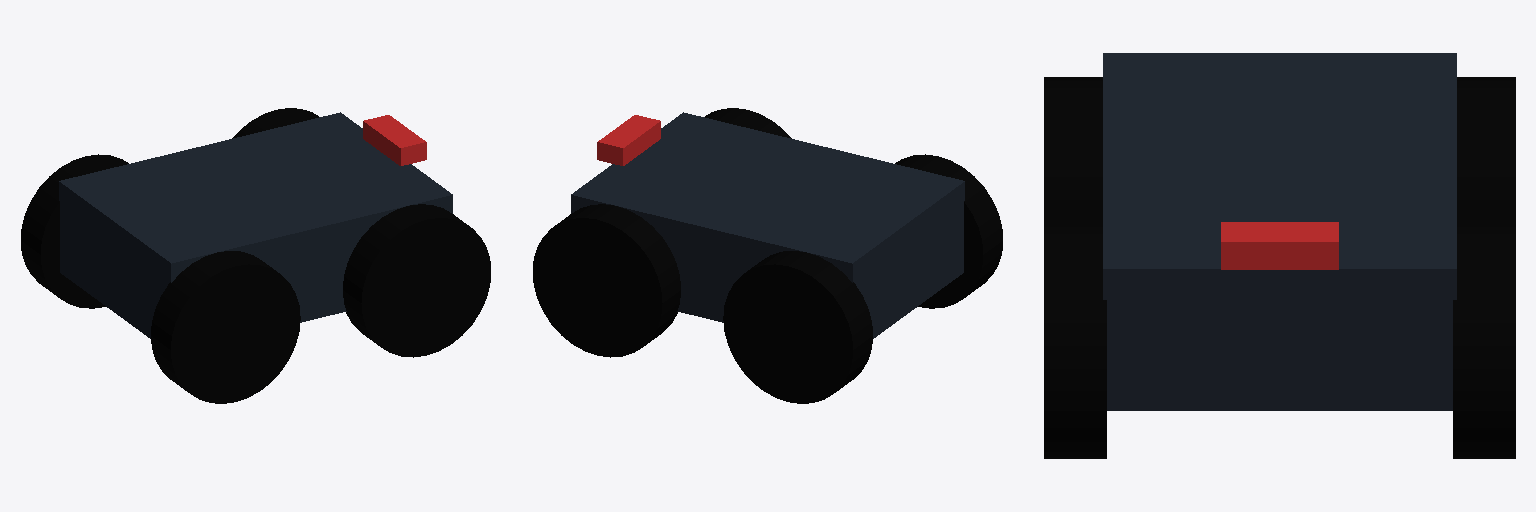
robot.urdf — outdoor_ugv:
<?xml version="1.0"?>
<robot name="outdoor_ugv">

  <link name="base_footprint"/>

  <joint name="base_footprint_joint" type="fixed">
    <parent link="base_footprint"/>
    <child link="base_link"/>
    <origin xyz="0 0 0.15" rpy="0 0 0"/>
  </joint>

  <!-- Base Link (Chassis) -->
  <link name="base_link">
    <inertial>
      <mass value="20.0"/>
      <origin xyz="0 0 0.05" rpy="0 0 0"/>
      <inertia ixx="0.25" ixy="0.0" ixz="0.0" iyy="0.45" iyz="0.0" izz="0.60"/>
    </inertial>
    <visual>
      <origin xyz="0 0 0.05" rpy="0 0 0"/>
      <geometry>
        <box size="0.65 0.45 0.20"/>
      </geometry>
      <material name="chassis_color">
        <color rgba="0.15 0.18 0.22 1.0"/>
      </material>
    </visual>
    <collision>
      <origin xyz="0 0 0.05" rpy="0 0 0"/>
      <geometry>
        <box size="0.65 0.45 0.20"/>
      </geometry>
    </collision>
  </link>

  <!-- Left Front Wheel -->
  <link name="left_front_wheel">
    <inertial>
      <mass value="2.5"/>
      <origin xyz="0 0 0" rpy="0 0 0"/>
      <inertia ixx="0.015" ixy="0.0" ixz="0.0" iyy="0.015" iyz="0.0" izz="0.025"/>
    </inertial>
    <visual>
      <origin xyz="0 0 0" rpy="1.570796 0 0"/>
      <geometry>
        <cylinder radius="0.15" length="0.08"/>
      </geometry>
      <material name="tire_color">
        <color rgba="0.05 0.05 0.05 1.0"/>
      </material>
    </visual>
    <collision>
      <origin xyz="0 0 0" rpy="1.570796 0 0"/>
      <geometry>
        <cylinder radius="0.15" length="0.08"/>
      </geometry>
    </collision>
  </link>

  <joint name="left_front_wheel_joint" type="continuous">
    <parent link="base_link"/>
    <child link="left_front_wheel"/>
    <origin xyz="0.22 0.26 0" rpy="0 0 0"/>
    <axis xyz="0 1 0"/>
  </joint>

  <!-- Left Rear Wheel -->
  <link name="left_rear_wheel">
    <inertial>
      <mass value="2.5"/>
      <origin xyz="0 0 0" rpy="0 0 0"/>
      <inertia ixx="0.015" ixy="0.0" ixz="0.0" iyy="0.015" iyz="0.0" izz="0.025"/>
    </inertial>
    <visual>
      <origin xyz="0 0 0" rpy="1.570796 0 0"/>
      <geometry>
        <cylinder radius="0.15" length="0.08"/>
      </geometry>
      <material name="tire_color">
        <color rgba="0.05 0.05 0.05 1.0"/>
      </material>
    </visual>
    <collision>
      <origin xyz="0 0 0" rpy="1.570796 0 0"/>
      <geometry>
        <cylinder radius="0.15" length="0.08"/>
      </geometry>
    </collision>
  </link>

  <joint name="left_rear_wheel_joint" type="continuous">
    <parent link="base_link"/>
    <child link="left_rear_wheel"/>
    <origin xyz="-0.22 0.26 0" rpy="0 0 0"/>
    <axis xyz="0 1 0"/>
  </joint>

  <!-- Right Front Wheel -->
  <link name="right_front_wheel">
    <inertial>
      <mass value="2.5"/>
      <origin xyz="0 0 0" rpy="0 0 0"/>
      <inertia ixx="0.015" ixy="0.0" ixz="0.0" iyy="0.015" iyz="0.0" izz="0.025"/>
    </inertial>
    <visual>
      <origin xyz="0 0 0" rpy="1.570796 0 0"/>
      <geometry>
        <cylinder radius="0.15" length="0.08"/>
      </geometry>
      <material name="tire_color">
        <color rgba="0.05 0.05 0.05 1.0"/>
      </material>
    </visual>
    <collision>
      <origin xyz="0 0 0" rpy="1.570796 0 0"/>
      <geometry>
        <cylinder radius="0.15" length="0.08"/>
      </geometry>
    </collision>
  </link>

  <joint name="right_front_wheel_joint" type="continuous">
    <parent link="base_link"/>
    <child link="right_front_wheel"/>
    <origin xyz="0.22 -0.26 0" rpy="0 0 0"/>
    <axis xyz="0 1 0"/>
  </joint>

  <!-- Right Rear Wheel -->
  <link name="right_rear_wheel">
    <inertial>
      <mass value="2.5"/>
      <origin xyz="0 0 0" rpy="0 0 0"/>
      <inertia ixx="0.015" ixy="0.0" ixz="0.0" iyy="0.015" iyz="0.0" izz="0.025"/>
    </inertial>
    <visual>
      <origin xyz="0 0 0" rpy="1.570796 0 0"/>
      <geometry>
        <cylinder radius="0.15" length="0.08"/>
      </geometry>
      <material name="tire_color">
        <color rgba="0.05 0.05 0.05 1.0"/>
      </material>
    </visual>
    <collision>
      <origin xyz="0 0 0" rpy="1.570796 0 0"/>
      <geometry>
        <cylinder radius="0.15" length="0.08"/>
      </geometry>
    </collision>
  </link>

  <joint name="right_rear_wheel_joint" type="continuous">
    <parent link="base_link"/>
    <child link="right_rear_wheel"/>
    <origin xyz="-0.22 -0.26 0" rpy="0 0 0"/>
    <axis xyz="0 1 0"/>
  </joint>

  <!-- Forward-Facing RGB-D Camera Link -->
  <link name="camera_link">
    <visual>
      <origin xyz="0 0 0" rpy="0 0 0"/>
      <geometry>
        <box size="0.06 0.15 0.04"/>
      </geometry>
      <material name="camera_color">
        <color rgba="0.8 0.2 0.2 1.0"/>
      </material>
    </visual>
    <collision>
      <origin xyz="0 0 0" rpy="0 0 0"/>
      <geometry>
        <box size="0.06 0.15 0.04"/>
      </geometry>
    </collision>
  </link>

  <joint name="camera_joint" type="fixed">
    <parent link="base_link"/>
    <child link="camera_link"/>
    <origin xyz="0.32 0 0.18" rpy="0 0 0"/>
  </joint>

  <link name="camera_optical_link"/>
  <joint name="camera_optical_joint" type="fixed">
    <parent link="camera_link"/>
    <child link="camera_optical_link"/>
    <origin xyz="0 0 0" rpy="-1.570796 0 -1.570796"/>
  </joint>

  <!-- IMU Link -->
  <link name="imu_link"/>
  <joint name="imu_joint" type="fixed">
    <parent link="base_link"/>
    <child link="imu_link"/>
    <origin xyz="0 0 0.10" rpy="0 0 0"/>
  </joint>

  <!-- Gazebo Sensors & Actuator Plugins -->
  <gazebo reference="camera_link">
    <sensor name="rgbd_camera" type="rgbd_camera">
      <camera>
        <horizontal_fov>1.3962634</horizontal_fov>
        <image>
          <width>640</width>
          <height>480</height>
          <format>R8G8B8</format>
        </image>
        <clip>
          <near>0.2</near>
          <far>20.0</far>
        </clip>
        <depth_camera>
          <clip>
            <near>0.2</near>
            <far>20.0</far>
          </clip>
        </depth_camera>
      </camera>
      <always_on>1</always_on>
      <update_rate>30</update_rate>
      <visualize>true</visualize>
      <topic>/camera</topic>
      <gz_frame_id>camera_optical_link</gz_frame_id>
    </sensor>
  </gazebo>

  <gazebo reference="imu_link">
    <sensor name="imu_sensor" type="imu">
      <always_on>1</always_on>
      <update_rate>100</update_rate>
      <visualize>false</visualize>
      <topic>/imu</topic>
      <gz_frame_id>imu_link</gz_frame_id>
    </sensor>
  </gazebo>

  <!-- Wheel Physics & Friction: High longitudinal traction (mu1=0.8), low lateral friction (mu2=0.05) with fdir1 for true 4WD skid-steering -->
  <gazebo reference="left_front_wheel">
    <mu1>0.8</mu1>
    <mu2>0.05</mu2>
    <fdir1>1 0 0</fdir1>
    <kp>1000000.0</kp>
    <kd>100.0</kd>
  </gazebo>
  <gazebo reference="left_rear_wheel">
    <mu1>0.8</mu1>
    <mu2>0.05</mu2>
    <fdir1>1 0 0</fdir1>
    <kp>1000000.0</kp>
    <kd>100.0</kd>
  </gazebo>
  <gazebo reference="right_front_wheel">
    <mu1>0.8</mu1>
    <mu2>0.05</mu2>
    <fdir1>1 0 0</fdir1>
    <kp>1000000.0</kp>
    <kd>100.0</kd>
  </gazebo>
  <gazebo reference="right_rear_wheel">
    <mu1>0.8</mu1>
    <mu2>0.05</mu2>
    <fdir1>1 0 0</fdir1>
    <kp>1000000.0</kp>
    <kd>100.0</kd>
  </gazebo>

  <gazebo>
    <!-- Ground-truth physical odometry publisher -->
    <plugin filename="gz-sim-odometry-publisher-system" name="gz::sim::systems::OdometryPublisher">
      <dimensions>3</dimensions>
      <odom_frame>odom</odom_frame>
      <robot_base_frame>base_footprint</robot_base_frame>
      <odom_publish_frequency>50</odom_publish_frequency>
      <odom_topic>/odom</odom_topic>
      <tf_topic>/tf_gz_disabled</tf_topic>
    </plugin>
  </gazebo>

  <gazebo>
    <!-- Front Axle Actuator -->
    <plugin filename="gz-sim-diff-drive-system" name="gz::sim::systems::DiffDrive">
      <left_joint>left_front_wheel_joint</left_joint>
      <right_joint>right_front_wheel_joint</right_joint>
      <wheel_separation>0.52</wheel_separation>
      <wheel_radius>0.15</wheel_radius>
      <max_linear_acceleration>4.0</max_linear_acceleration>
      <max_angular_acceleration>12.0</max_angular_acceleration>
      <max_torque>50</max_torque>
      <topic>/cmd_vel</topic>
    </plugin>
  </gazebo>

  <gazebo>
    <!-- Rear Axle Actuator -->
    <plugin filename="gz-sim-diff-drive-system" name="gz::sim::systems::DiffDrive">
      <left_joint>left_rear_wheel_joint</left_joint>
      <right_joint>right_rear_wheel_joint</right_joint>
      <wheel_separation>0.52</wheel_separation>
      <wheel_radius>0.15</wheel_radius>
      <max_linear_acceleration>4.0</max_linear_acceleration>
      <max_angular_acceleration>12.0</max_angular_acceleration>
      <max_torque>50</max_torque>
      <topic>/cmd_vel</topic>
    </plugin>
  </gazebo>

</robot>

--- What the picture shows (computed from the rendered views, not written in the file) ---
Views: 3 orthographic renders of the robot side by side, from view 1: azimuth 30°, elevation 25°; view 2: azimuth 150°, elevation 25°; view 3: azimuth 270°, elevation 25°.
Model outdoor_ugv with 9 links and 8 joints (4 continuous, 4 fixed), rooted at base_footprint, posed every joint at zero.
Links seen in each view (by area): view 1: base_link, right_rear_wheel, right_front_wheel, left_rear_wheel, camera_link, left_front_wheel; view 2: base_link, left_rear_wheel, left_front_wheel, right_rear_wheel, camera_link, right_front_wheel; view 3: base_link, left_front_wheel, right_front_wheel, left_rear_wheel, right_rear_wheel, camera_link.
Boxes of the visible links, x1,y1,x2,y2 form: base_link: [59, 112, 452, 338]; right_rear_wheel: [151, 251, 300, 403]; right_front_wheel: [343, 204, 490, 357]; left_rear_wheel: [21, 154, 128, 308]; camera_link: [363, 115, 426, 165]; left_front_wheel: [232, 108, 318, 138]; base_link: [571, 112, 964, 338]; left_rear_wheel: [723, 251, 872, 403]; left_front_wheel: [533, 204, 680, 357]; right_rear_wheel: [895, 154, 1002, 308]; camera_link: [597, 115, 660, 165]; right_front_wheel: [705, 108, 791, 138]; base_link: [1103, 53, 1456, 410]; left_front_wheel: [1453, 223, 1515, 458]; right_front_wheel: [1044, 223, 1106, 458]; left_rear_wheel: [1457, 77, 1515, 222]; right_rear_wheel: [1044, 77, 1102, 222]; camera_link: [1221, 222, 1338, 269].
Size in the robot's own frame: 0.74 by 0.6 by 0.35 metres.
Geometry: primitives only (box / cylinder / sphere), no mesh files.
